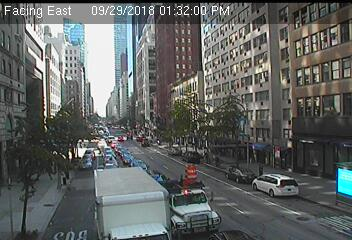car: (94, 169, 170, 240), (158, 182, 220, 235), (253, 174, 298, 198), (225, 166, 255, 184), (182, 151, 199, 163), (129, 160, 147, 171), (81, 157, 93, 170), (122, 154, 137, 164), (102, 164, 120, 172), (103, 155, 118, 164), (167, 148, 182, 156), (84, 150, 94, 159)
